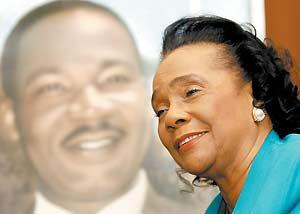stroke: (139, 69, 243, 165)
